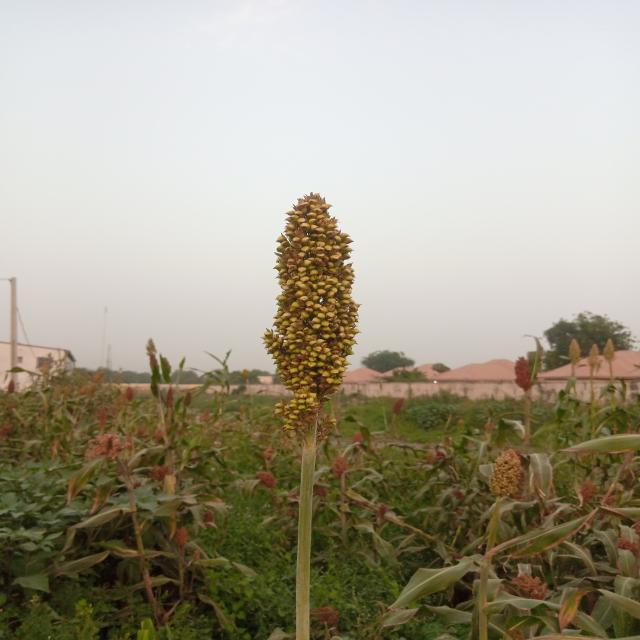UnripeSorghum: (220, 176, 389, 418)
